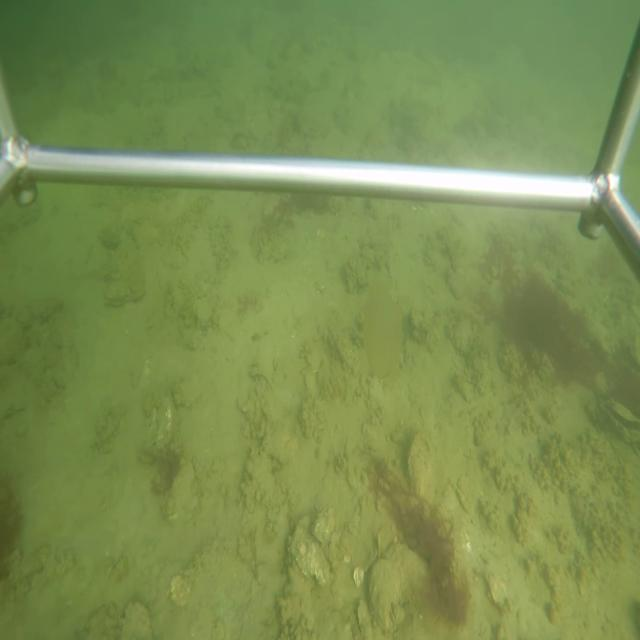Oyster-Indeterminate: (364, 540, 438, 639), (404, 429, 437, 500)
Oyster-Open: (599, 398, 640, 444)
